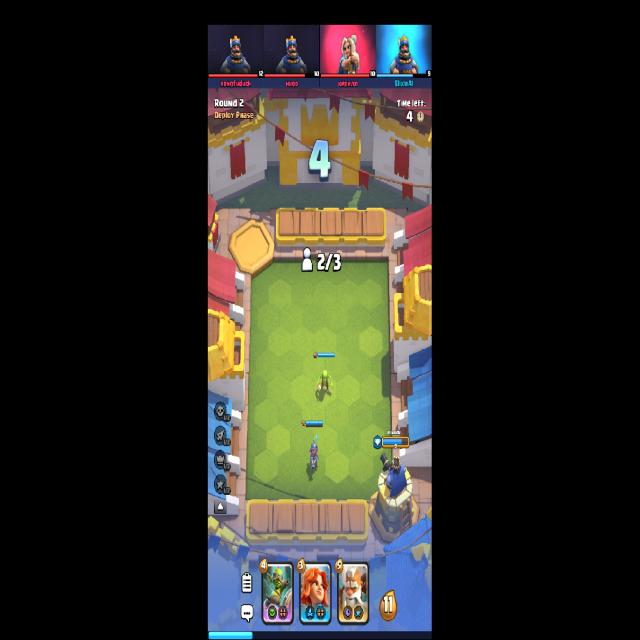card_goblin_machine: (261, 561, 293, 624)
card_monk: (336, 560, 369, 626)
card_valkyrie: (299, 560, 332, 626)
goblin: (316, 371, 334, 394)
musketeer: (309, 435, 320, 469)
